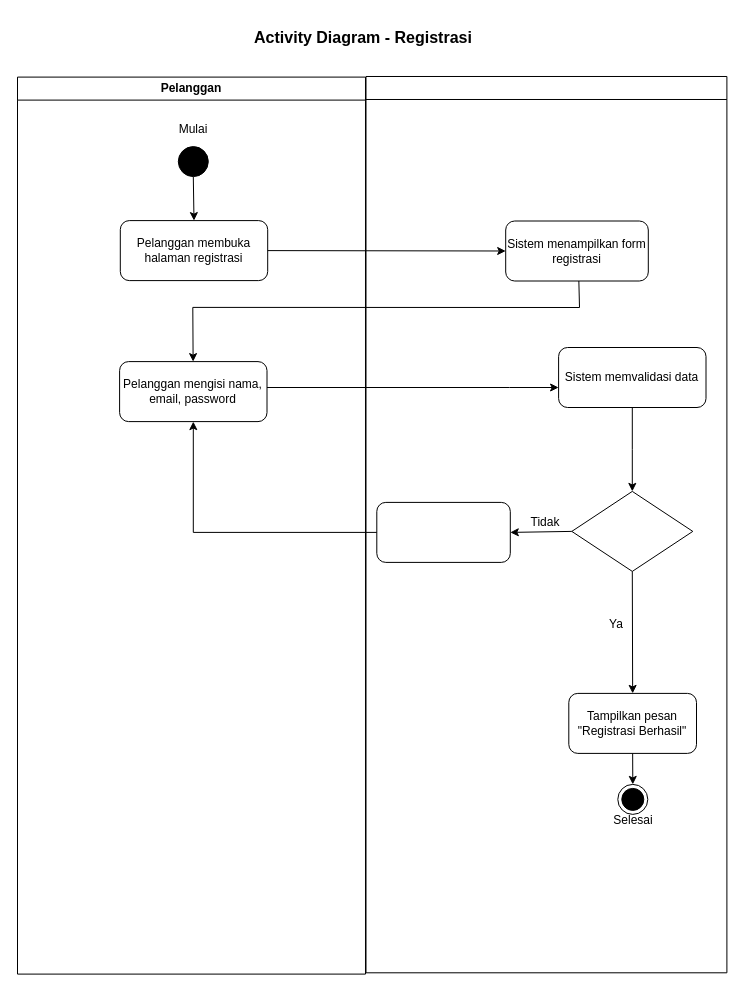
Some shapes in this 745 by 992 pixel diagram are drawn without their labels. The shapes that lost their labels are listed below. From the top down, each one's centre as x and y in pixels, then its label:
At [443,531]: "Sistem gagal memuat data pelanggan".
At [546,524]: "Sistem".
At [632,530]: "Data Valid?".
